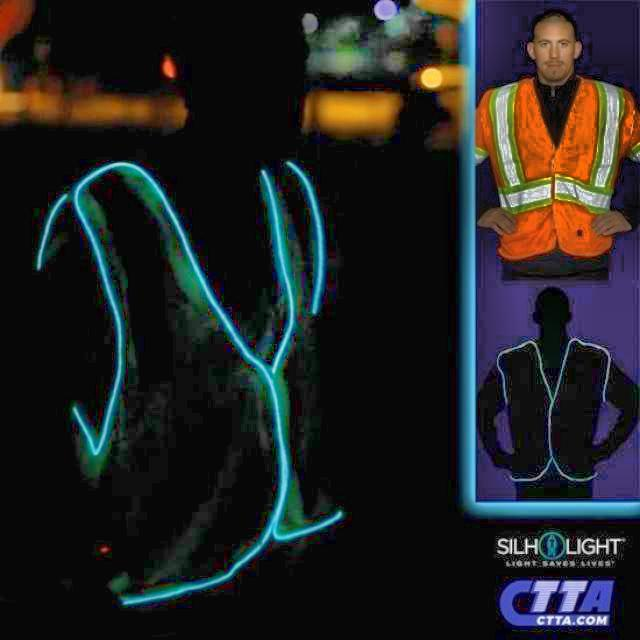safety_jacket: (487, 78, 618, 274)
